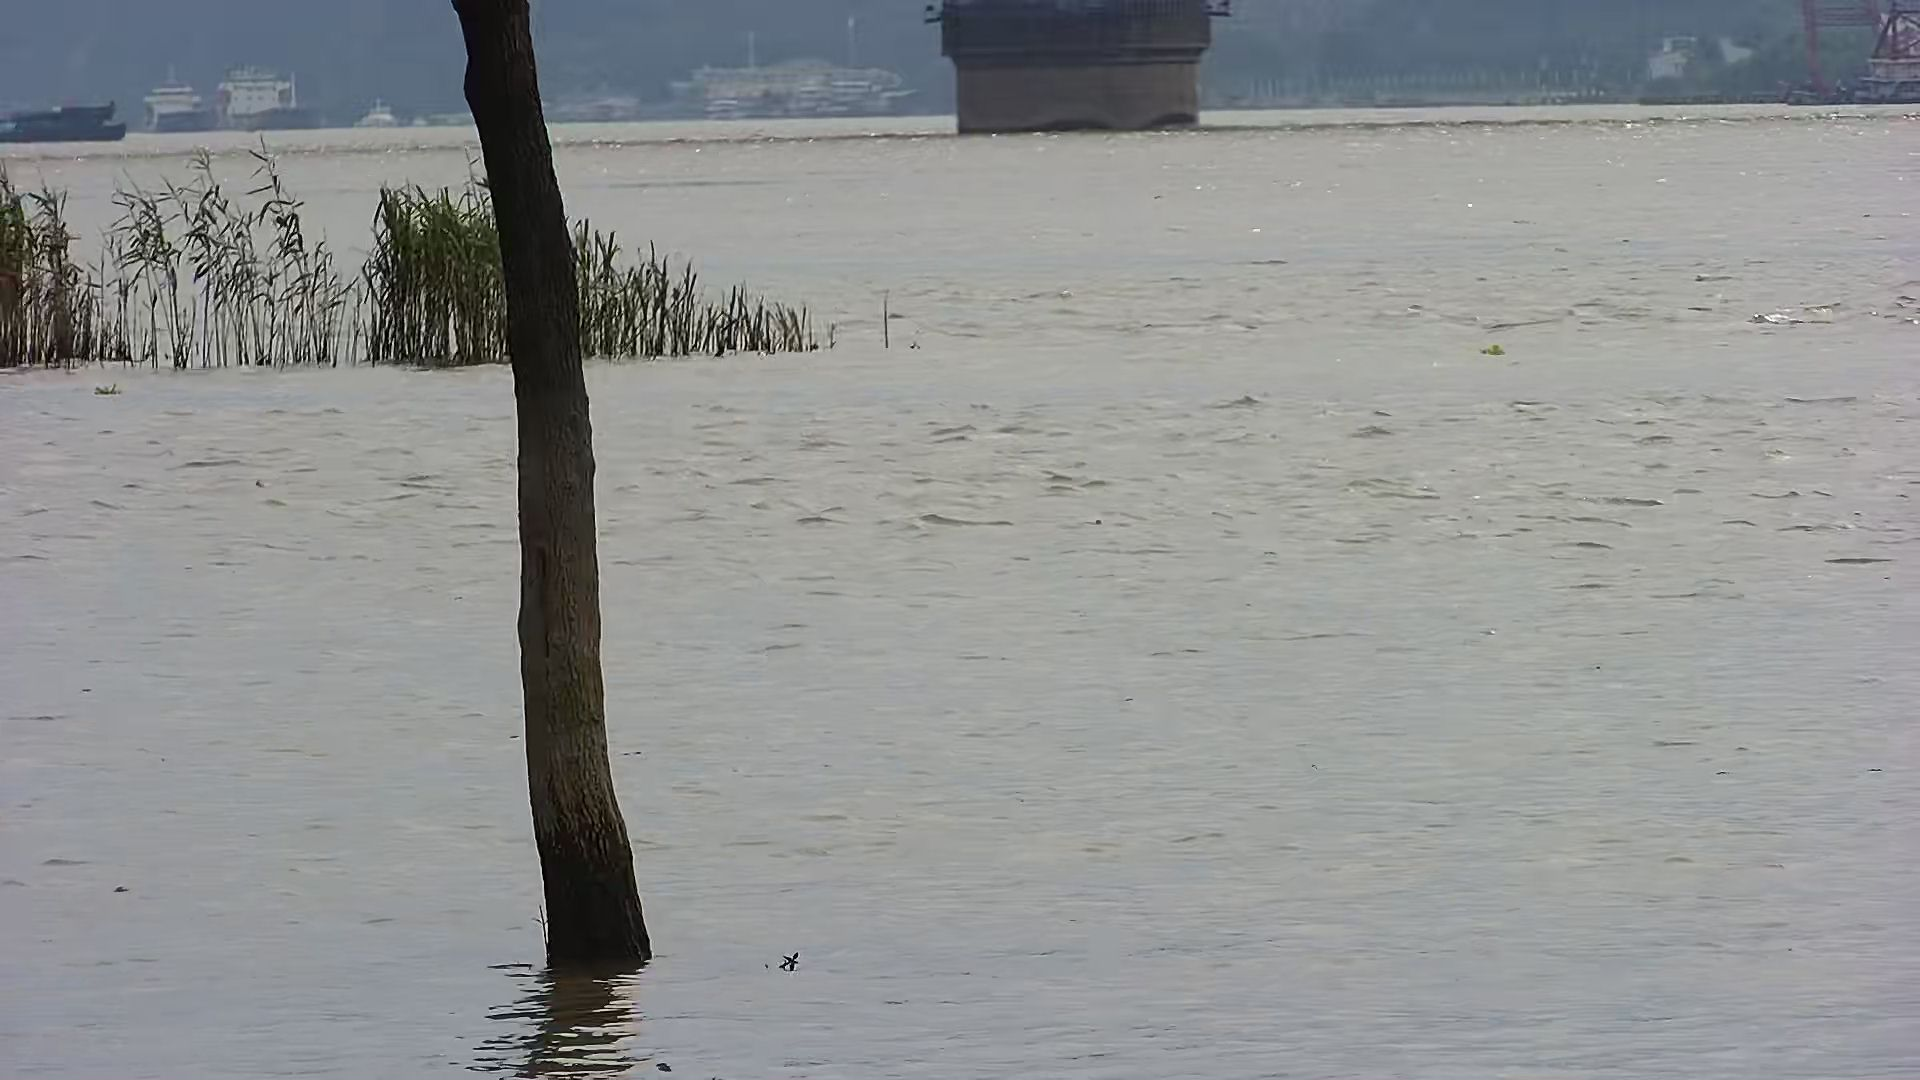grass: (1, 160, 829, 367)
mast: (928, 1, 1221, 129)
tree: (450, 1, 653, 967)
